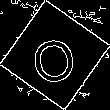O_N: (29, 26, 81, 84)
